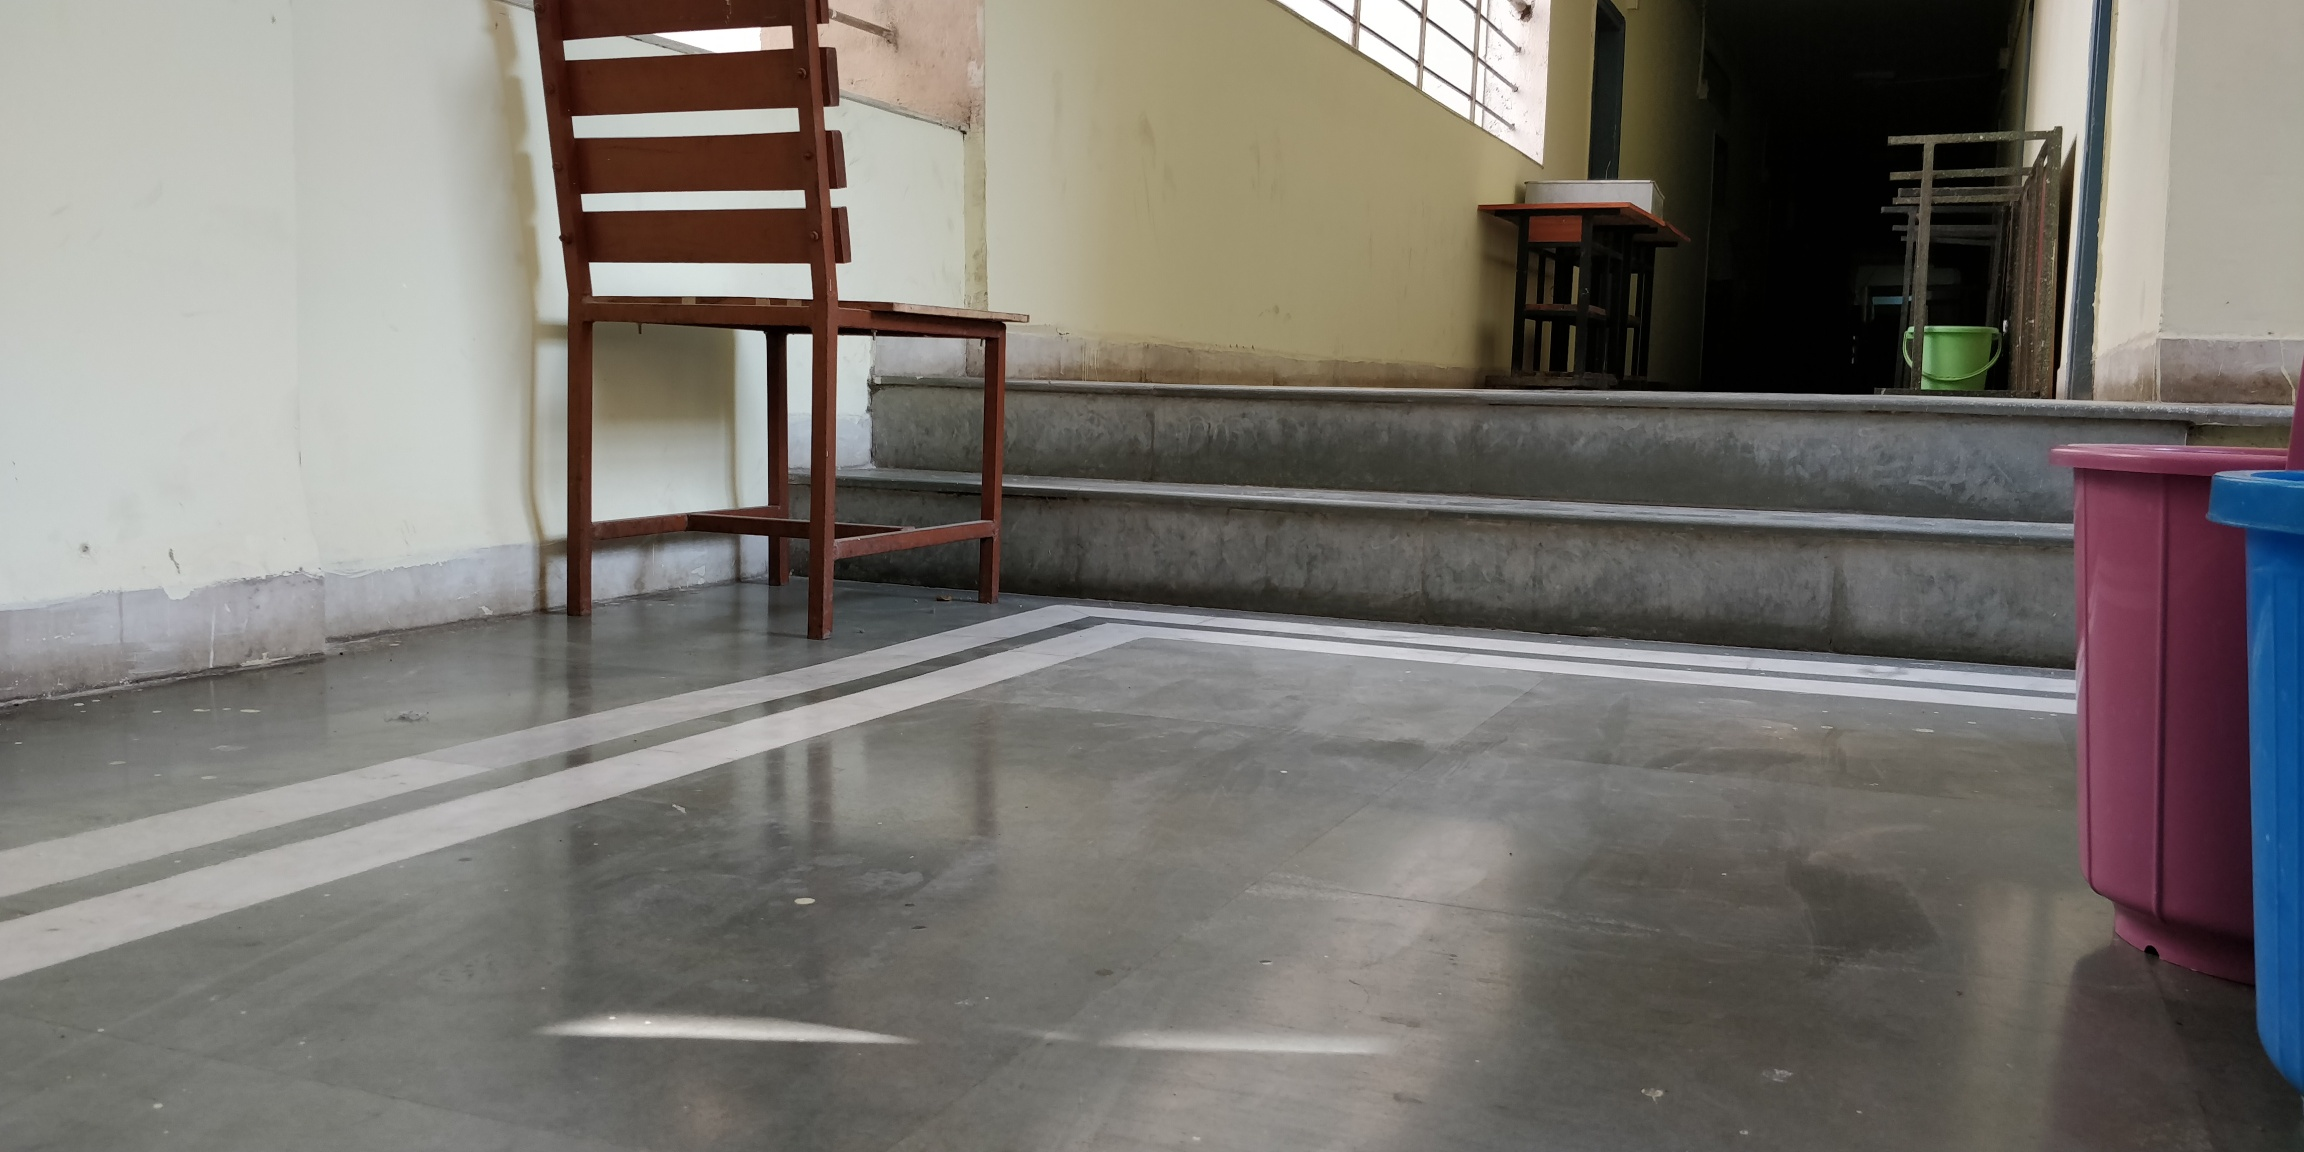stairs_up: (986, 397, 2056, 622)
